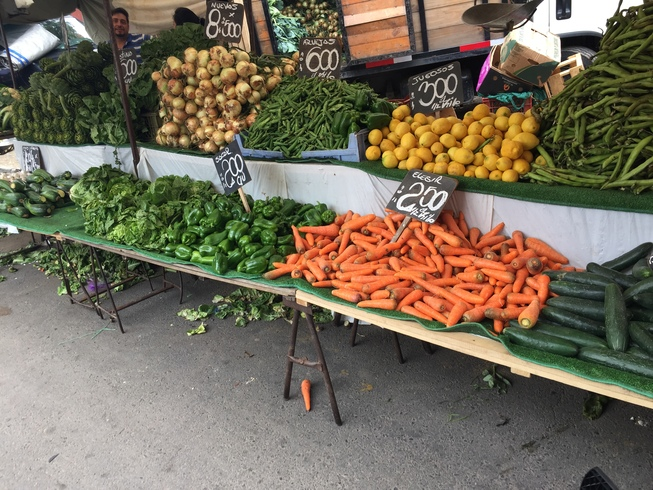precio: (393, 165, 460, 231), (297, 34, 351, 88), (197, 1, 254, 52), (407, 64, 462, 114), (214, 136, 251, 195), (19, 143, 51, 189)
